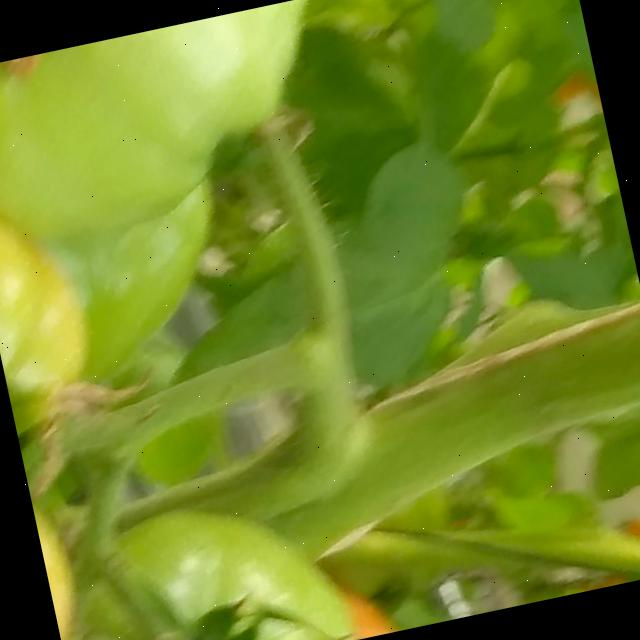tomato: (0, 2, 406, 640)
